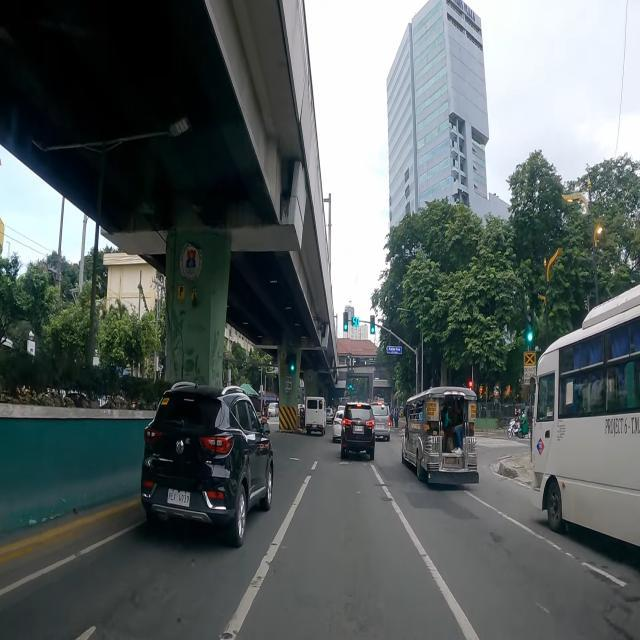car: (142, 380, 273, 546), (341, 403, 375, 461), (370, 402, 390, 444), (332, 410, 344, 443)
jeepney: (531, 285, 640, 552), (402, 386, 481, 486)
motorcycle: (508, 408, 524, 439)
tricycle: (518, 406, 534, 438)
truck: (305, 397, 327, 437)
